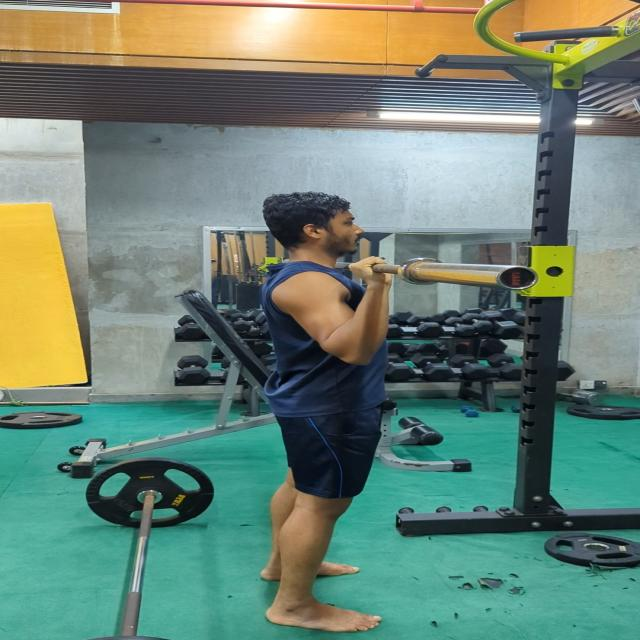Normal_OverheadPress: (228, 175, 442, 640)
